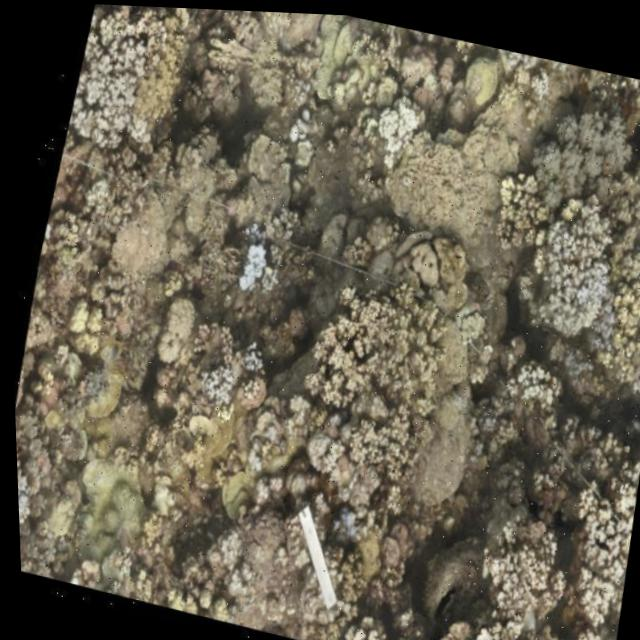Bleached Coral: (543, 439, 640, 633), (54, 2, 174, 155), (507, 205, 609, 339), (210, 195, 283, 306), (354, 72, 429, 177), (13, 445, 42, 566), (186, 352, 238, 412), (226, 339, 266, 378), (623, 72, 640, 152)
